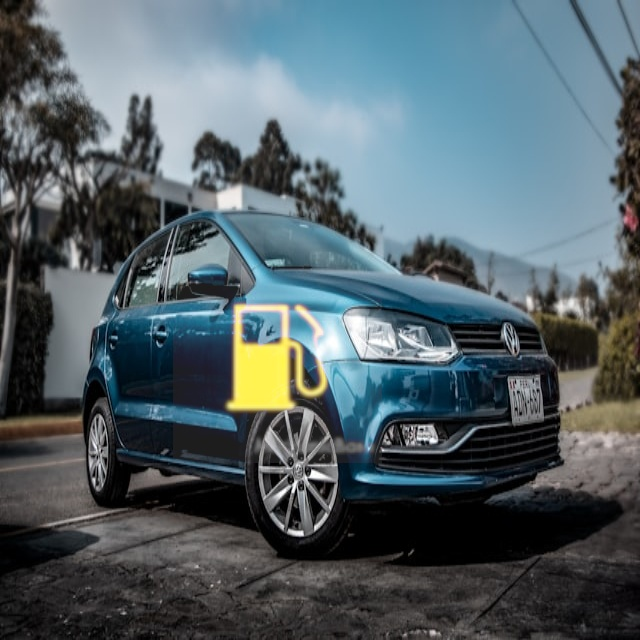symbol: (173, 254, 382, 463)
